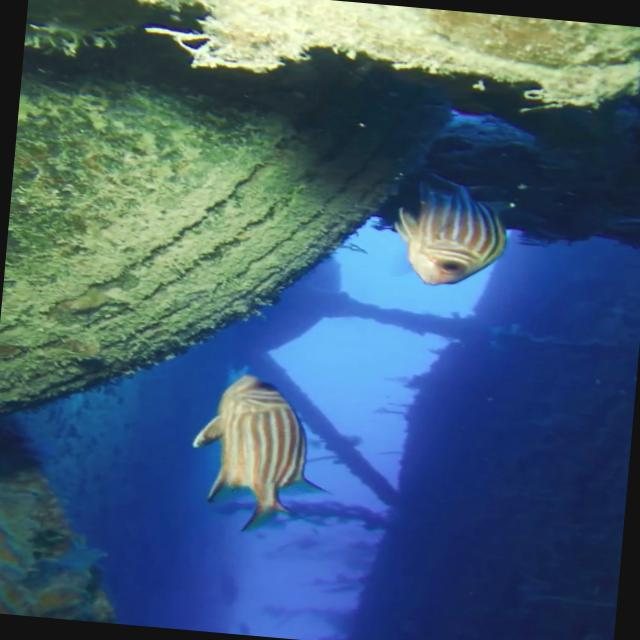Asker Baligi: (182, 368, 342, 540), (382, 168, 514, 292)
